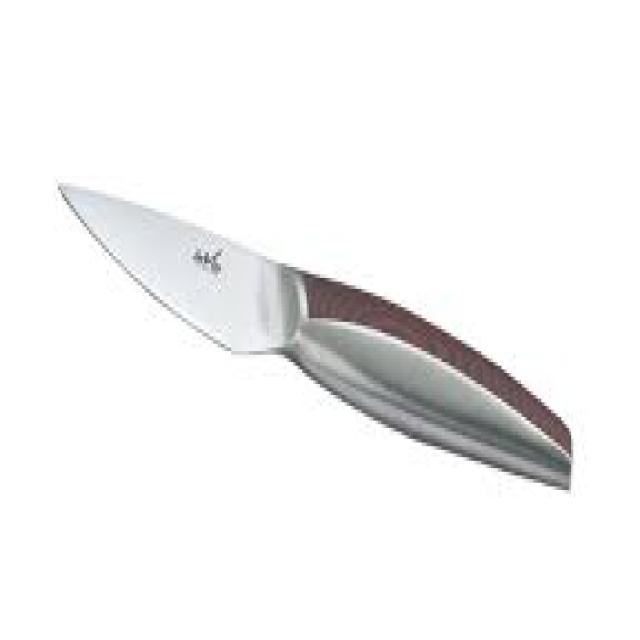Knife: (60, 179, 571, 486)
